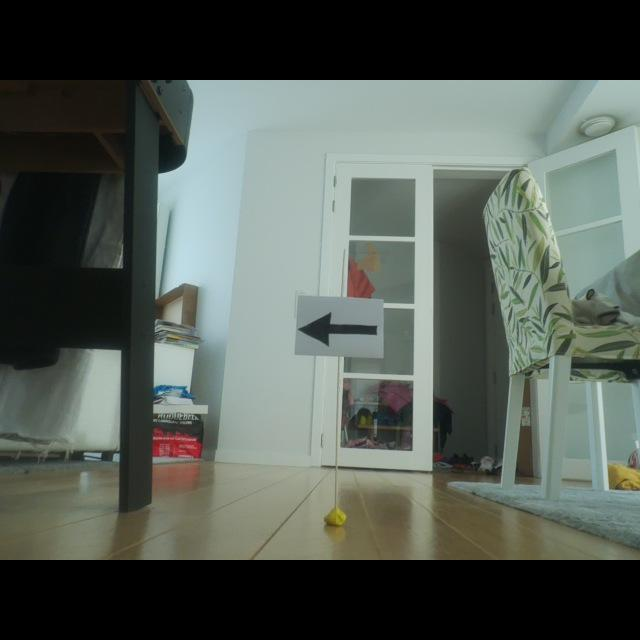balra_nyil: (298, 313, 376, 346)
